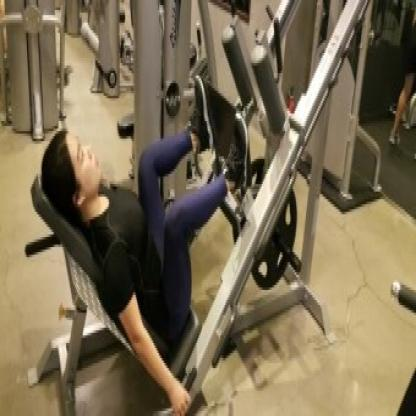leg press: (21, 0, 381, 416)
